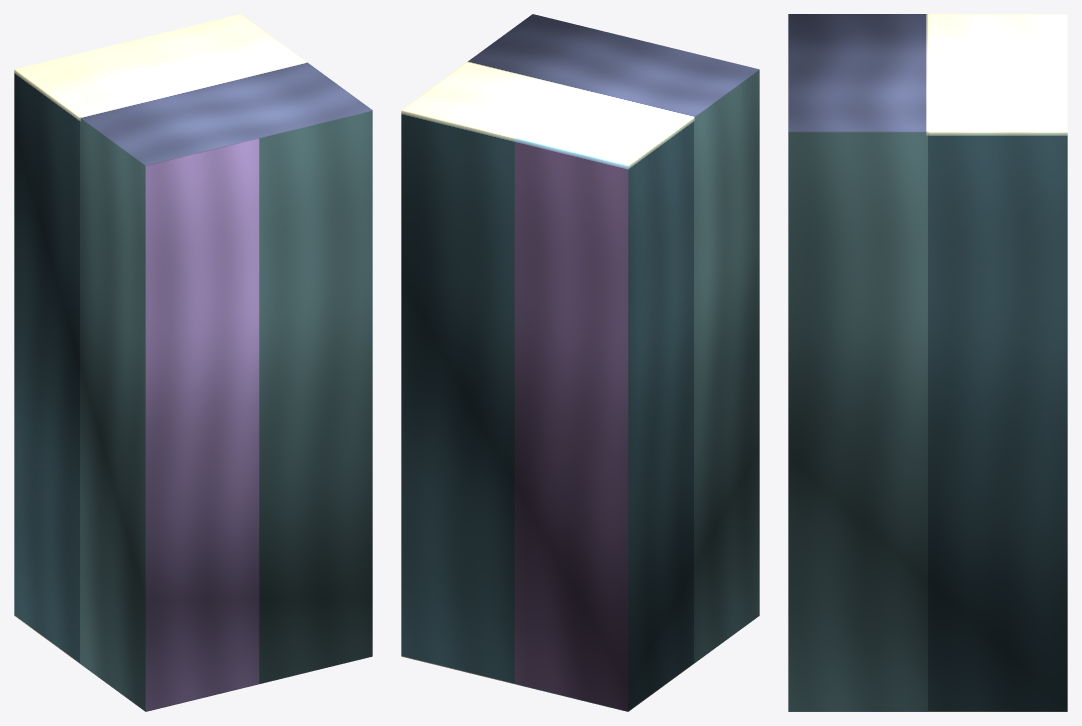
File: firefly_jar.glb
3 renders of one model, left to right at view 1: azimuth 30°, elevation 25°; view 2: azimuth 150°, elevation 25°; view 3: azimuth 270°, elevation 25°, orthographic. The views are drawn at different scales.
Parts seen in each view (by area): view 1: col; view 2: col; view 3: col.
Boxes of the visible parts, x1=… form: col: x1=14, y1=14, x2=372, y2=711; col: x1=401, y1=14, x2=759, y2=711; col: x1=788, y1=14, x2=1067, y2=711.
Size of the model in its own units: 0.5754 by 1.32 by 0.5773.
Materials: 1 (1 with a texture image).
